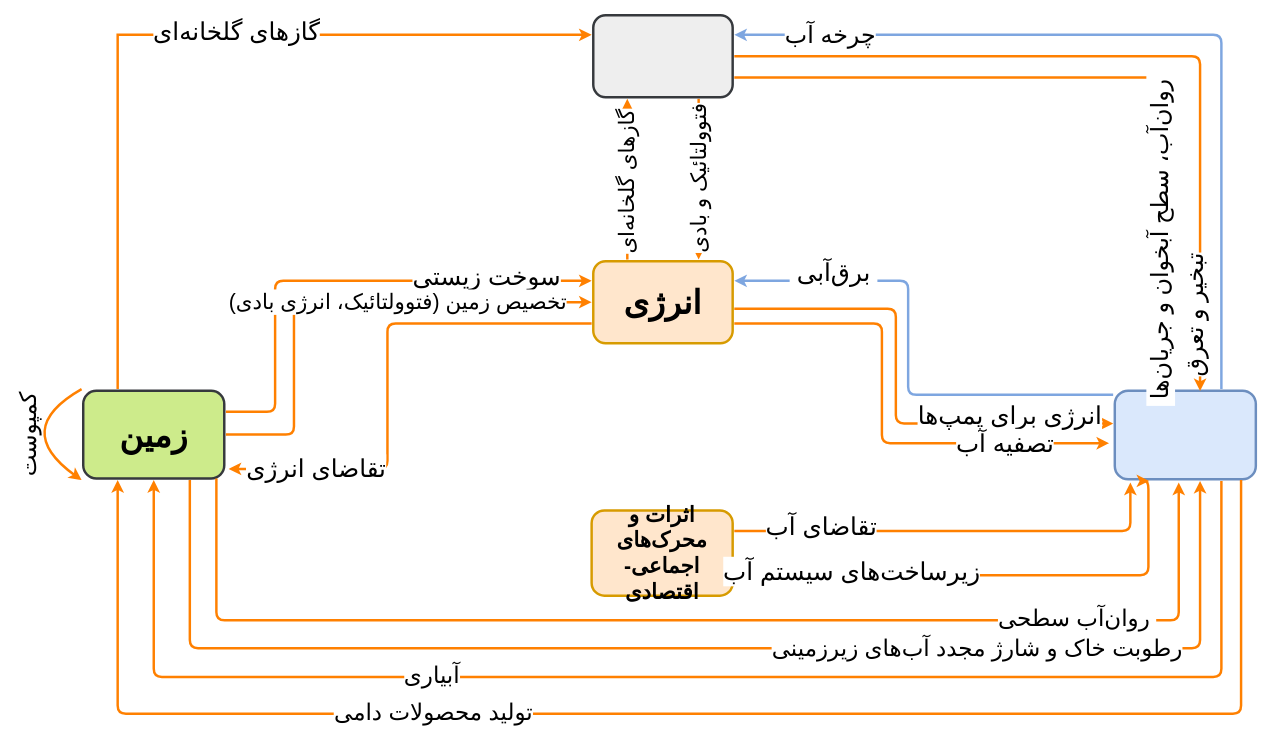
Some shapes in this 1271 by 740 pixel diagram are drawn without their labels. Here are the shapes that lost their labels. From the top down, the box of each, then its label:
(592, 14, 733, 98): اقلیم
(1113, 389, 1257, 480): آب
